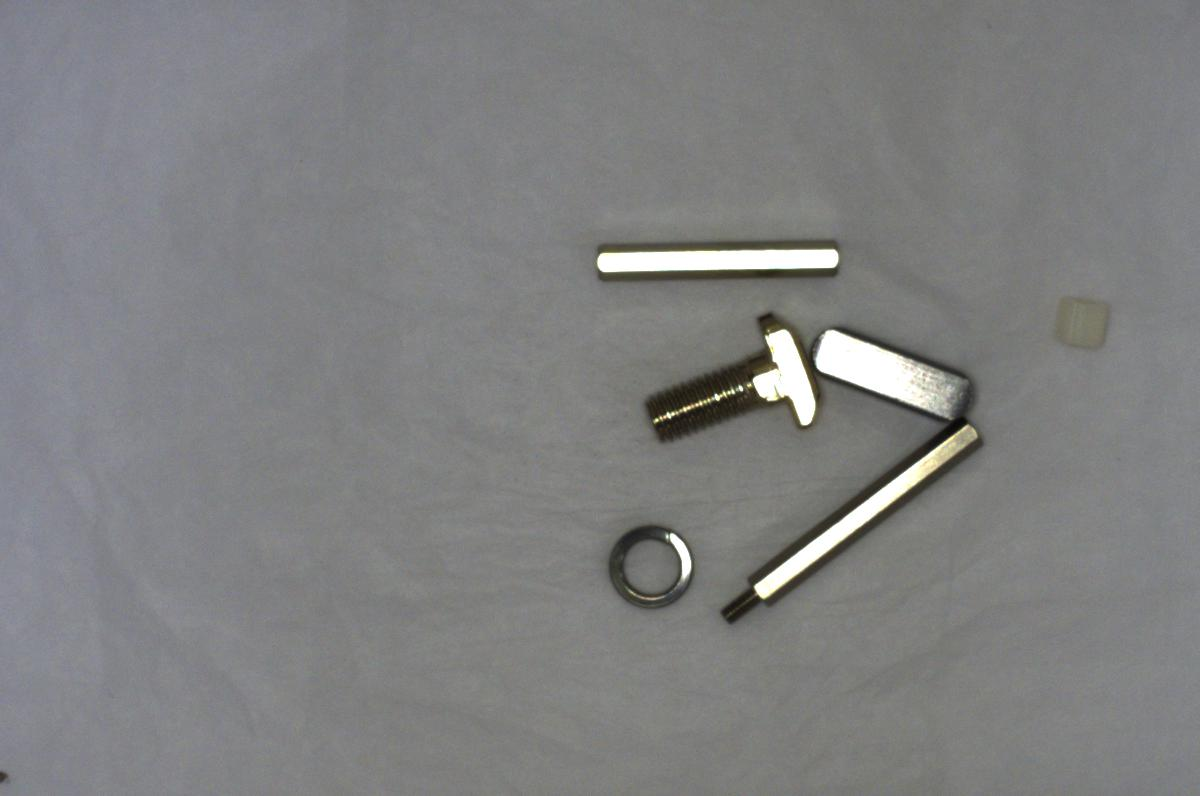Double hexagonal column: (580, 231, 850, 289)
Hexagonal steel column: (716, 412, 1002, 632)
Keybar: (802, 323, 976, 421)
Plastic cushion pillar: (1046, 290, 1114, 359)
Spring washer: (603, 515, 701, 618)
T-shaped screw: (624, 304, 829, 448)
